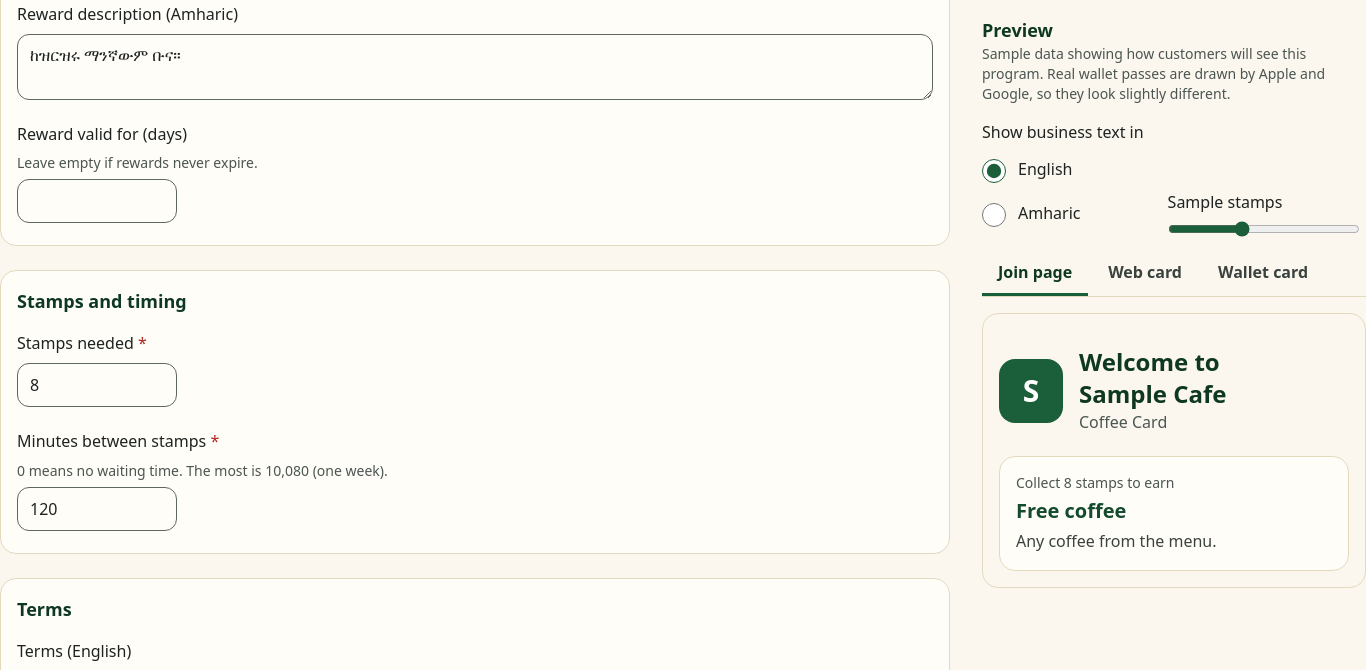
editing and saving › explains a locked stamp requirement refused by the backend
(page scrolled)
Clear the field labelled "Stamps needed *" at x=97, y=385, box [17, 363, 177, 407]
(page scrolled)
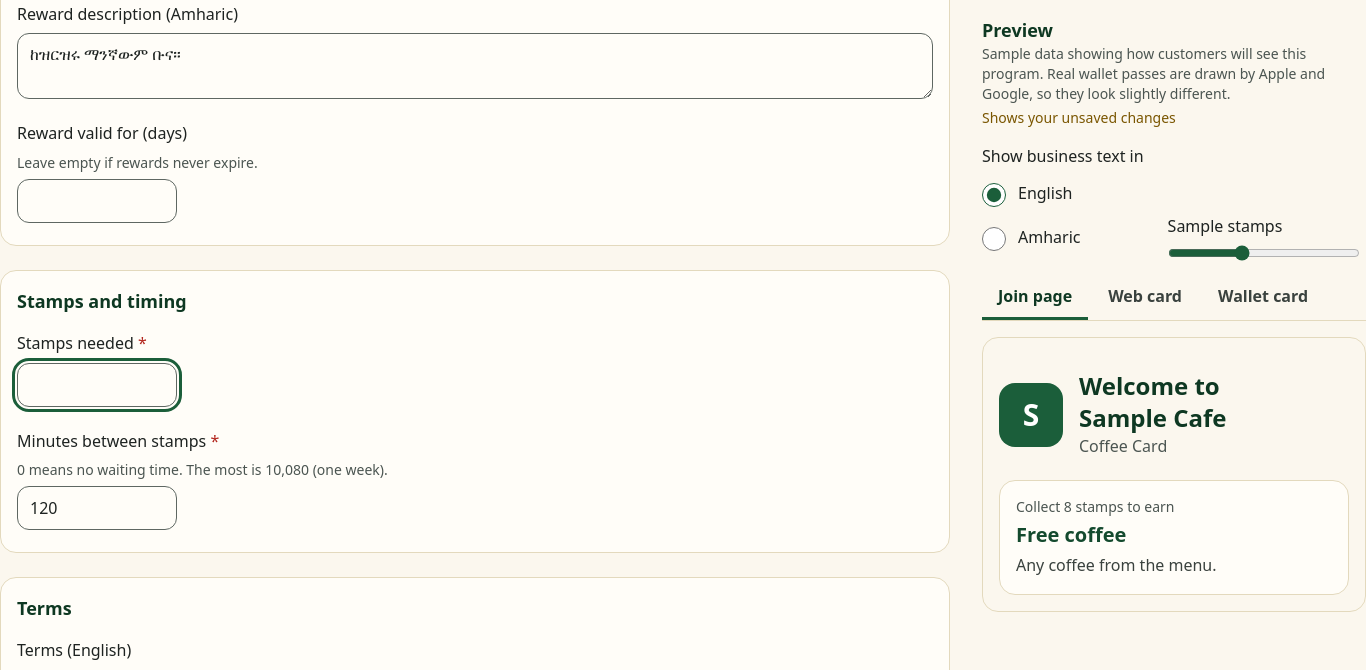
Type "10" into the field labelled "Stamps needed *" at x=97, y=384, box [17, 362, 177, 406]
(page scrolled)
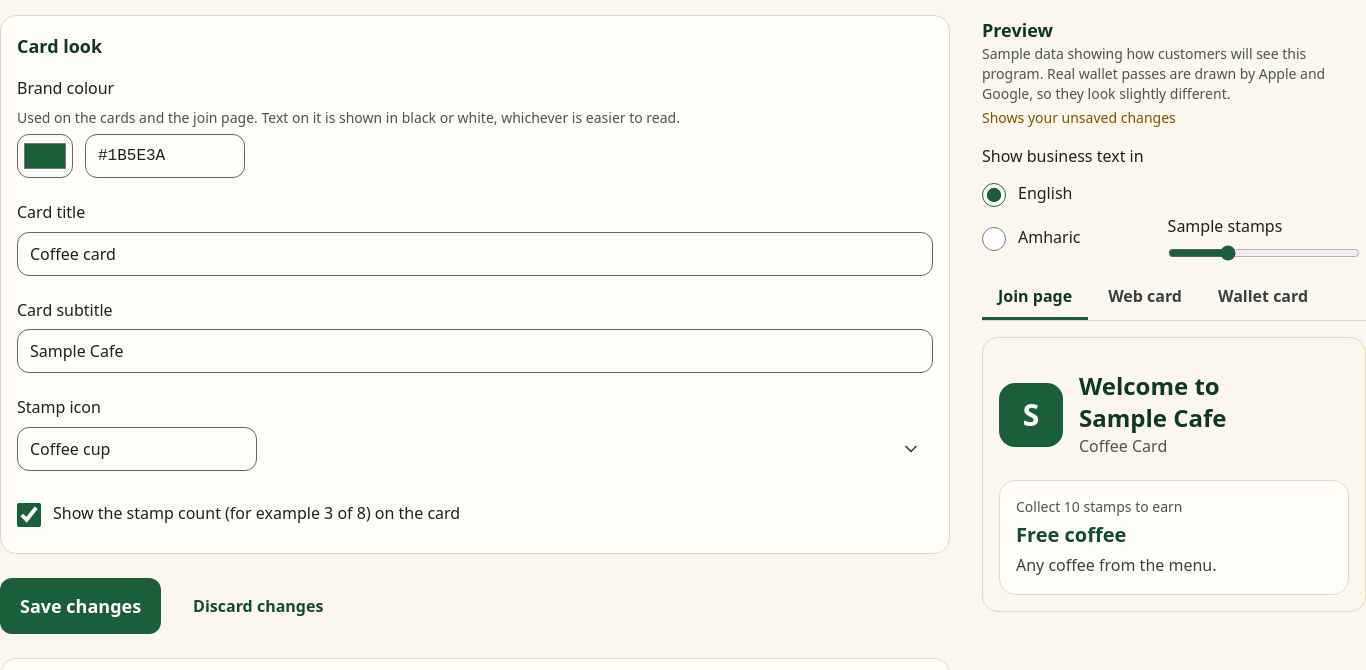
Click the button "Save changes" at x=81, y=606, box [0, 578, 161, 634]
(page scrolled)
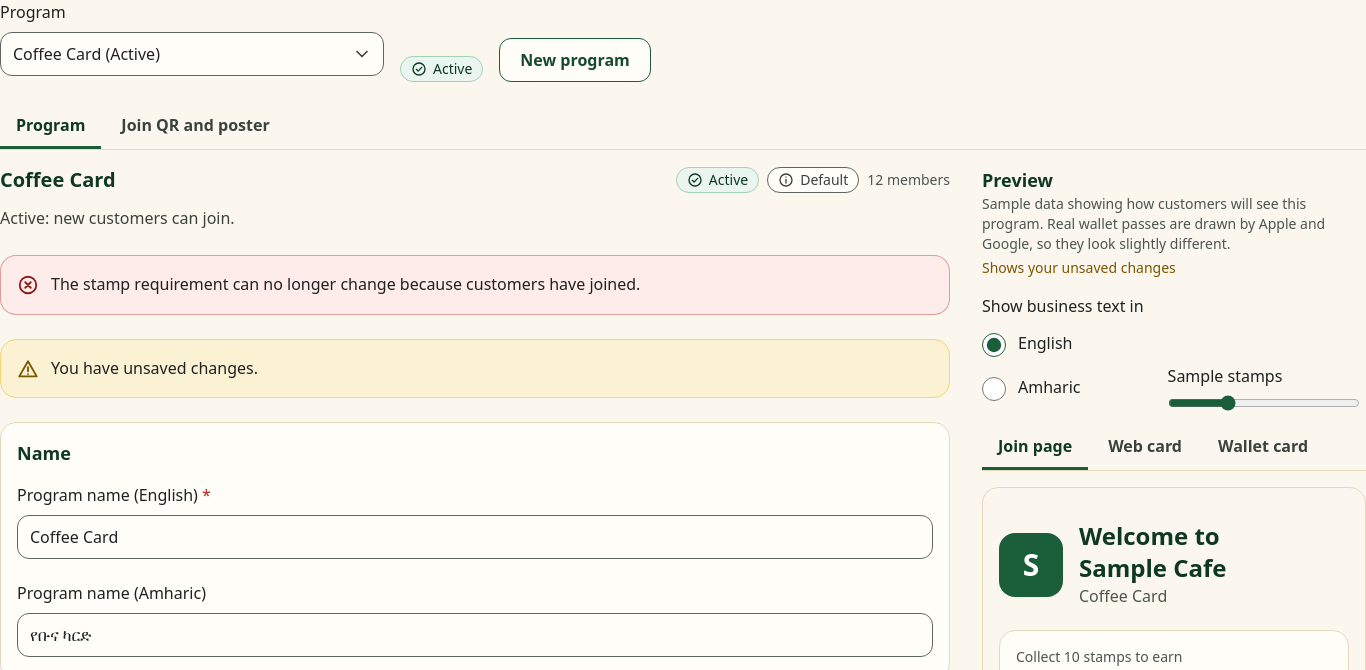
expect the text "can no longer change because customers have joined" is shown: met, box [51, 273, 640, 295]
